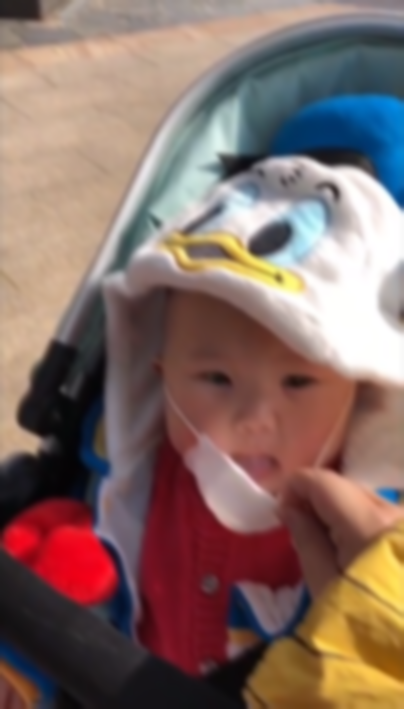mask_weared_incorrect: (146, 272, 369, 539)
